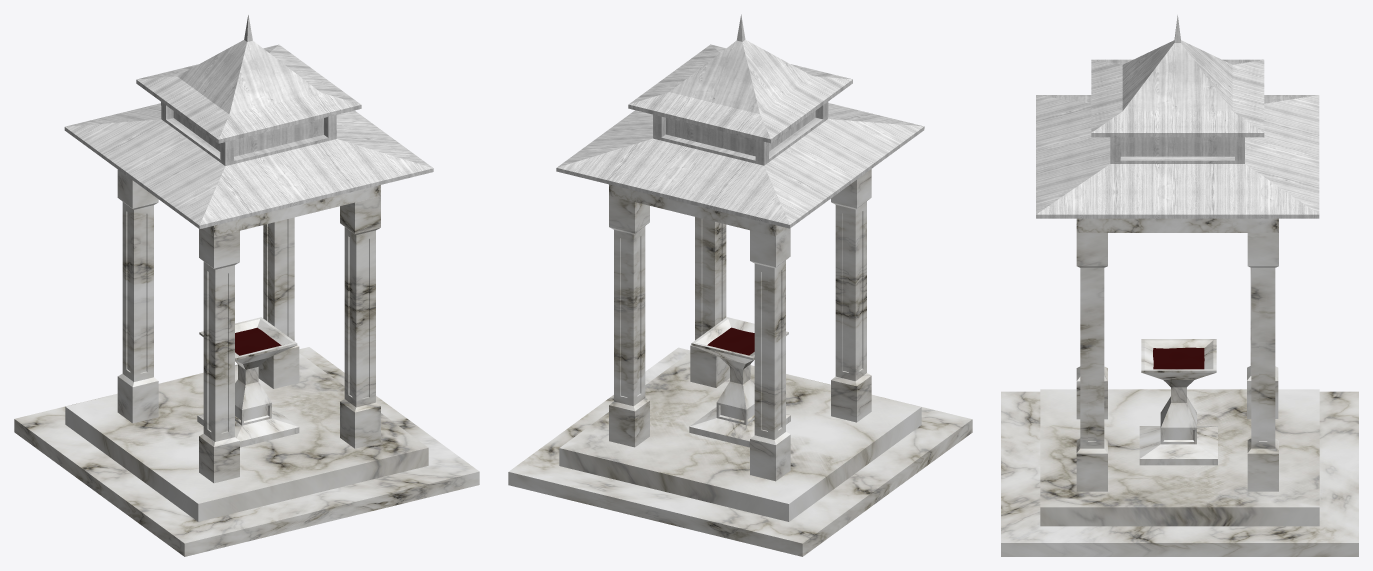
The model's file is Altar.fbx.
3 views of the same model, side by side, from view 1: azimuth 30°, elevation 25°; view 2: azimuth 150°, elevation 25°; view 3: azimuth 270°, elevation 25° (orthographic). The views are drawn at different scales.
Parts seen in each view (by area): view 1: Box011, Box005, Box006, Box004, Box002, Box003, Box001, Box012, Box007, Plane001; view 2: Box011, Box005, Box006, Box003, Box001, Box004, Box002, Box012, Box008, Plane001; view 3: Box011, Box005, Box006, Box001, Box002, Box012, Box009, Plane001, Box003, Box007, Box008, Box004.
Boxes of the visible parts, left/top/right/bottom form: Box011: left=64, top=15, right=433, bottom=229; Box005: left=65, top=353, right=428, bottom=521; Box006: left=14, top=347, right=479, bottom=556; Box004: left=199, top=228, right=239, bottom=483; Box002: left=340, top=196, right=380, bottom=448; Box003: left=117, top=169, right=158, bottom=423; Box001: left=258, top=217, right=299, bottom=388; Box012: left=197, top=317, right=299, bottom=447; Box007: left=202, top=185, right=380, bottom=236; Plane001: left=235, top=327, right=281, bottom=355; Box011: left=556, top=14, right=924, bottom=228; Box005: left=559, top=352, right=921, bottom=521; Box006: left=508, top=347, right=972, bottom=556; Box003: left=750, top=228, right=790, bottom=481; Box001: left=609, top=196, right=649, bottom=447; Box004: left=831, top=169, right=871, bottom=422; Box002: left=690, top=217, right=729, bottom=387; Box012: left=689, top=317, right=790, bottom=447; Box008: left=609, top=184, right=786, bottom=236; Plane001: left=707, top=327, right=754, bottom=355; Box011: left=1036, top=15, right=1319, bottom=218; Box005: left=1040, top=389, right=1319, bottom=526; Box006: left=1001, top=391, right=1358, bottom=556; Box001: left=1247, top=233, right=1278, bottom=491; Box002: left=1076, top=233, right=1107, bottom=491; Box012: left=1139, top=339, right=1217, bottom=465; Box009: left=1108, top=218, right=1247, bottom=232; Plane001: left=1153, top=347, right=1204, bottom=369; Box003: left=1247, top=268, right=1278, bottom=418; Box007: left=1076, top=218, right=1107, bottom=232; Box008: left=1247, top=218, right=1278, bottom=232; Box004: left=1076, top=366, right=1107, bottom=419.
Bounding box in the file's own units: 98.19 × 142 × 98.19.
3 materials, 2 textured.
